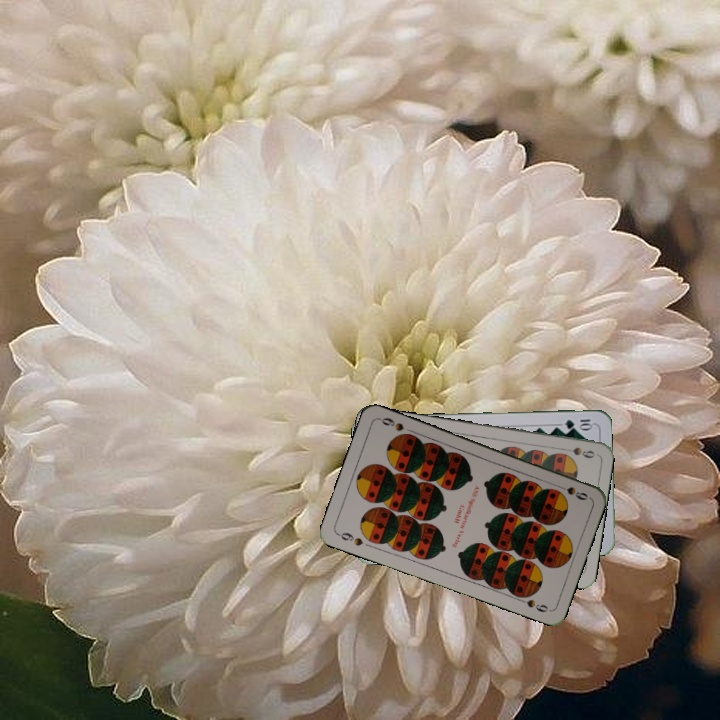G10: (561, 415, 595, 431)
S9: (552, 480, 590, 503), (557, 443, 597, 461), (334, 528, 366, 549)
